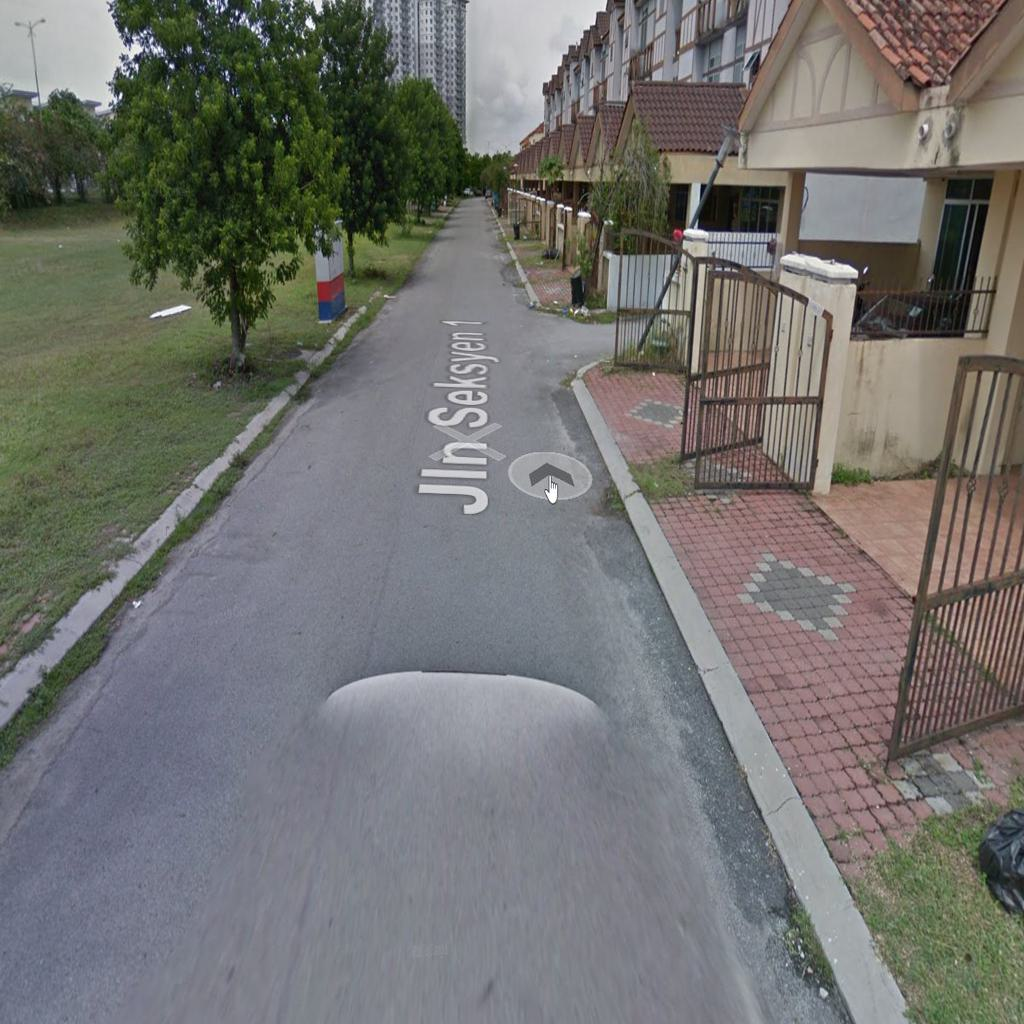Junction: (507, 292, 667, 406)
